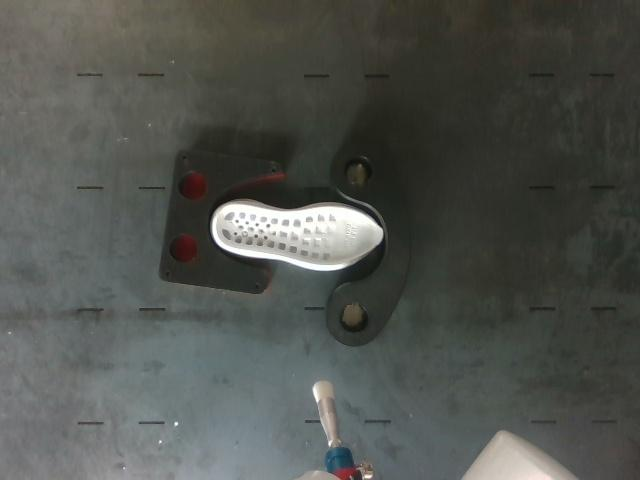shoes: (216, 204, 382, 265)
